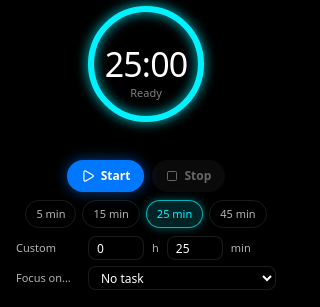
TimerTool › Start counts down; Pause freezes; Resume continues; Stop resets
Click the button "Start". click: (106, 176)
box: top-left (67, 160), bottom-right (144, 192)
Wait 3000 ms
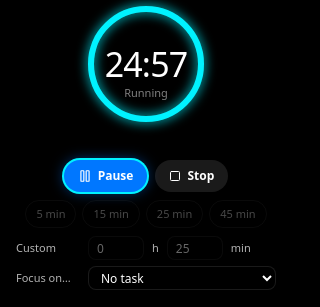
Click the button "Pause". click: (106, 176)
box: top-left (64, 160), bottom-right (147, 192)
Wait 10000 ms
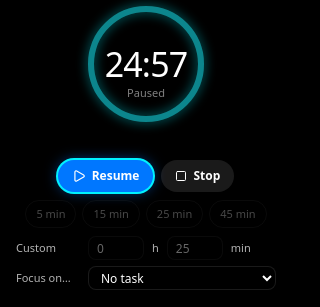
Check: the text "Paused" is shown, box top-left (127, 85), bottom-right (165, 101)
Click the button "Resume". click: (106, 176)
box: top-left (58, 160), bottom-right (154, 192)
Wait 2000 ms
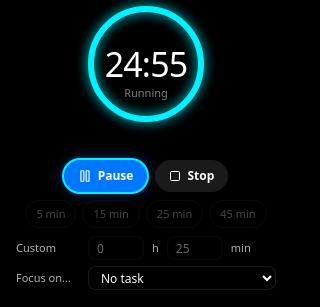
Click the button "Stop". click: (192, 176)
box: top-left (155, 160), bottom-right (228, 192)
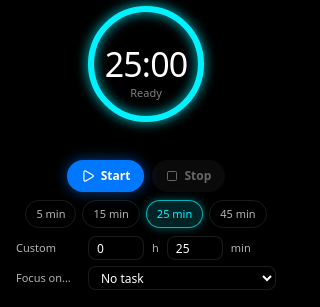
Check: the button "Start" is enabled, box top-left (67, 160), bottom-right (144, 192)
Check: the button "Stop" is disabled, box top-left (152, 160), bottom-right (225, 192)
